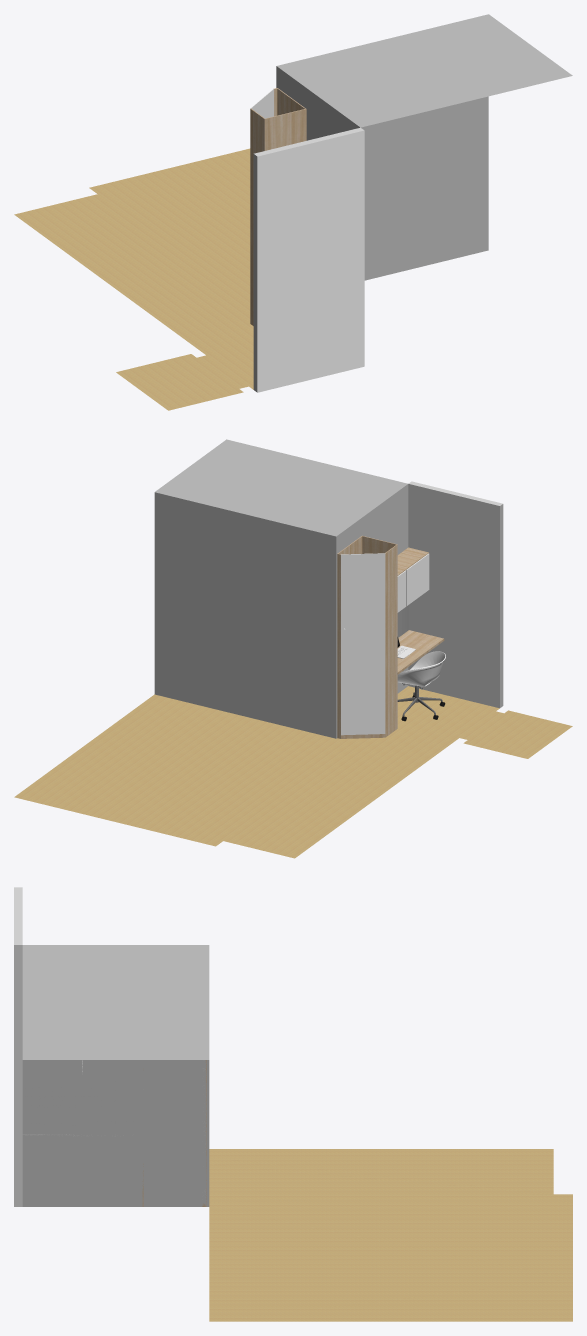
The model's file is scrivania-web.glb.
3 views of the same model, one above another, from view 1: azimuth 30°, elevation 25°; view 2: azimuth 150°, elevation 25°; view 3: azimuth 270°, elevation 25° (orthographic). The views are drawn at different scales.
Parts seen in each view (by area): view 1: G-Stanza.010, _G-Object.750 (Loose Mesh); view 2: G-Stanza.010, G-Anta.006, _G-Object.750 (Loose Mesh), C-Tom Roll S, G-Object.752, G-Anta2.006; view 3: G-Stanza.010.
Boxes of the visible parts, box(x1,y1,x2,y2) form: G-Stanza.010: box(14, 14, 572, 410); _G-Object.750 (Loose Mesh): box(250, 88, 306, 325); G-Stanza.010: box(14, 439, 572, 858); G-Anta.006: box(341, 553, 385, 735); _G-Object.750 (Loose Mesh): box(337, 535, 408, 738); C-Tom Roll S: box(397, 651, 445, 689); G-Object.752: box(397, 630, 444, 674); G-Anta2.006: box(406, 553, 429, 605); G-Stanza.010: box(14, 887, 572, 1321).
Bounding box in the file's own units: 4.84 × 2.7 × 5.22.
Materials: 15 (4 with a texture image).
